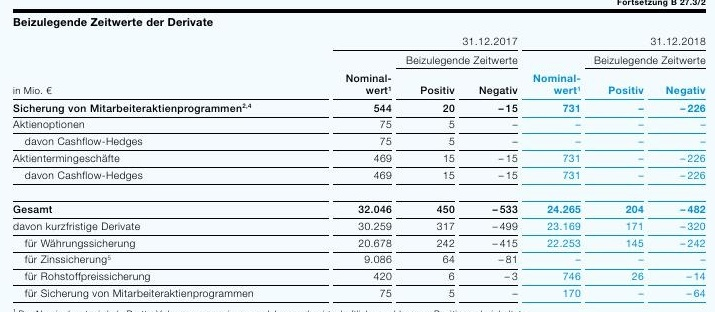table: (0, 0, 715, 312)
